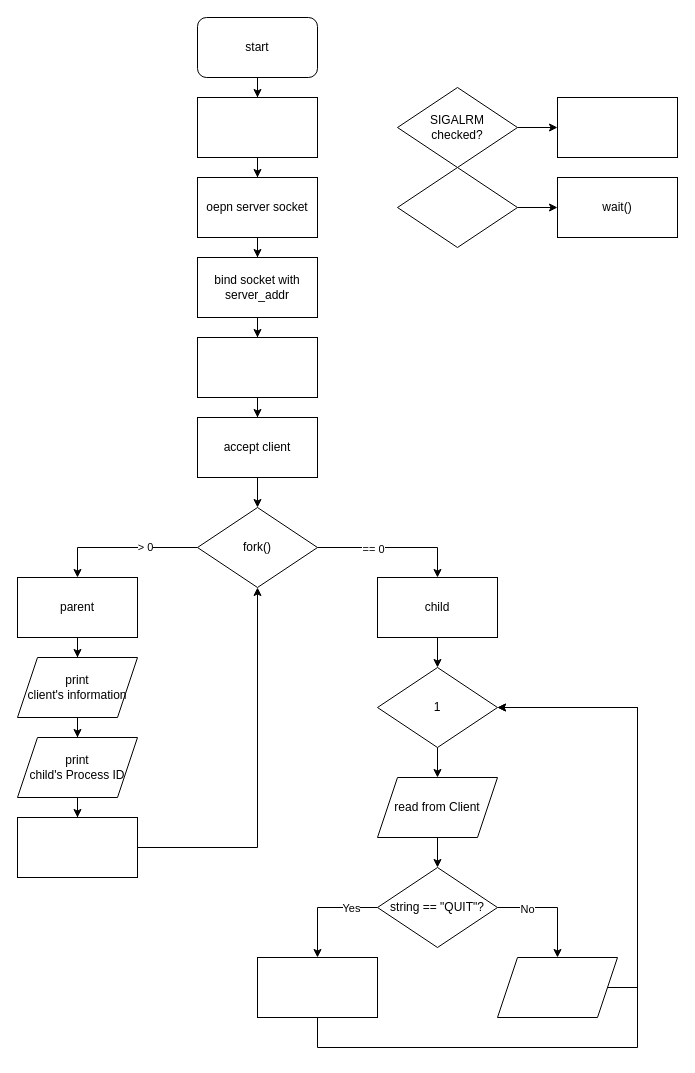
Image size: 695x1073. Some labels were removed from this diagram. The centre of each missing label's shape, as x and y in pixels:
"close client fd" goes at point 77,847.
"exit()" goes at point 617,127.
"listen size 5" goes at point 257,367.
"set alarm 1sec" goes at point 317,987.
"SIGCHLD checked?" goes at point 457,207.
"start checking SIGCHLD, SIGALRM" goes at point 257,127.
"write it as is to Client" goes at point 557,987.
